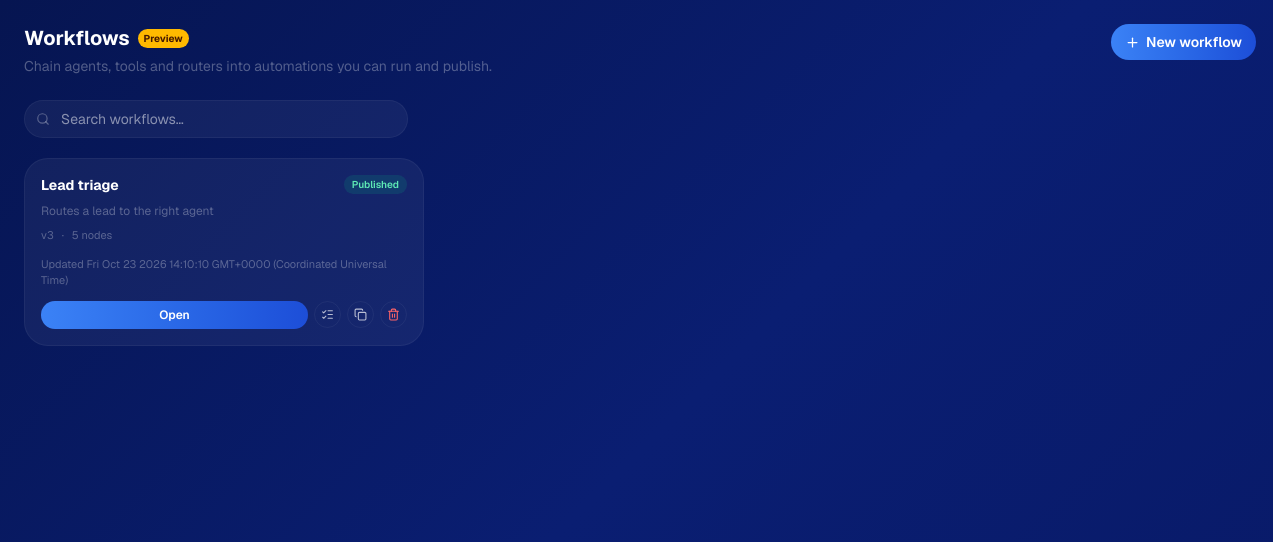
Scenario: WorkflowsPage › asks for confirmation before deleting a workflow
The width and height of the screenshot is (1273, 542).
Expected: the heading "Lead triage" is shown, top-left (41, 176), bottom-right (119, 194)
Click the button named "Delete". click: (394, 314)
box: top-left (380, 301), bottom-right (407, 328)
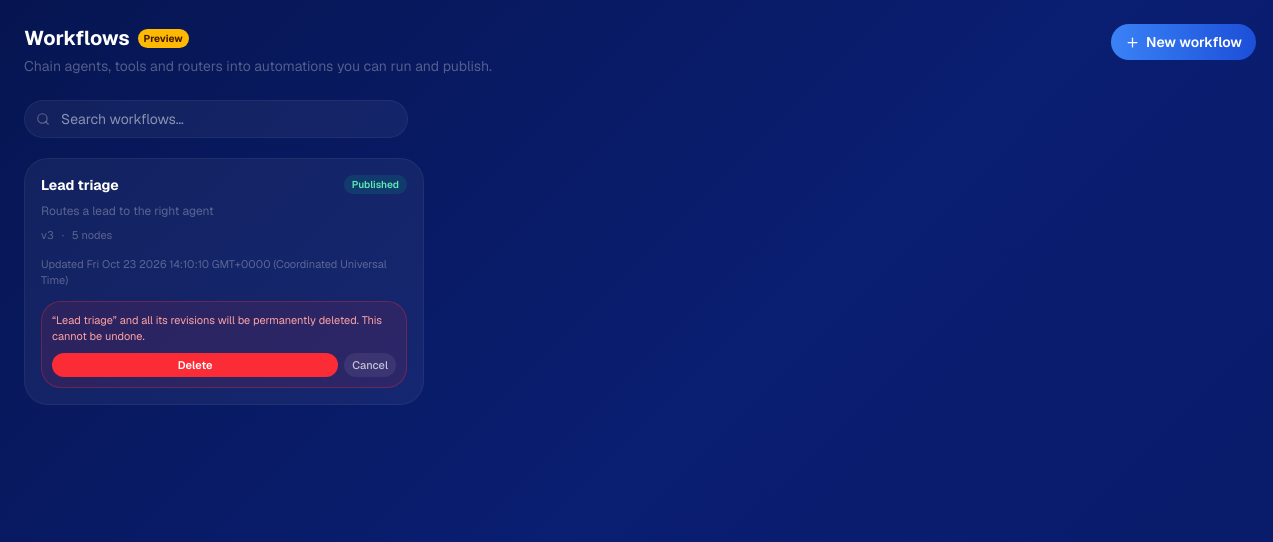
Now the text "permanently deleted" is shown, box top-left (52, 312), bottom-right (382, 343)
Click the button "Delete". click: (195, 365)
box: top-left (52, 352), bottom-right (338, 377)
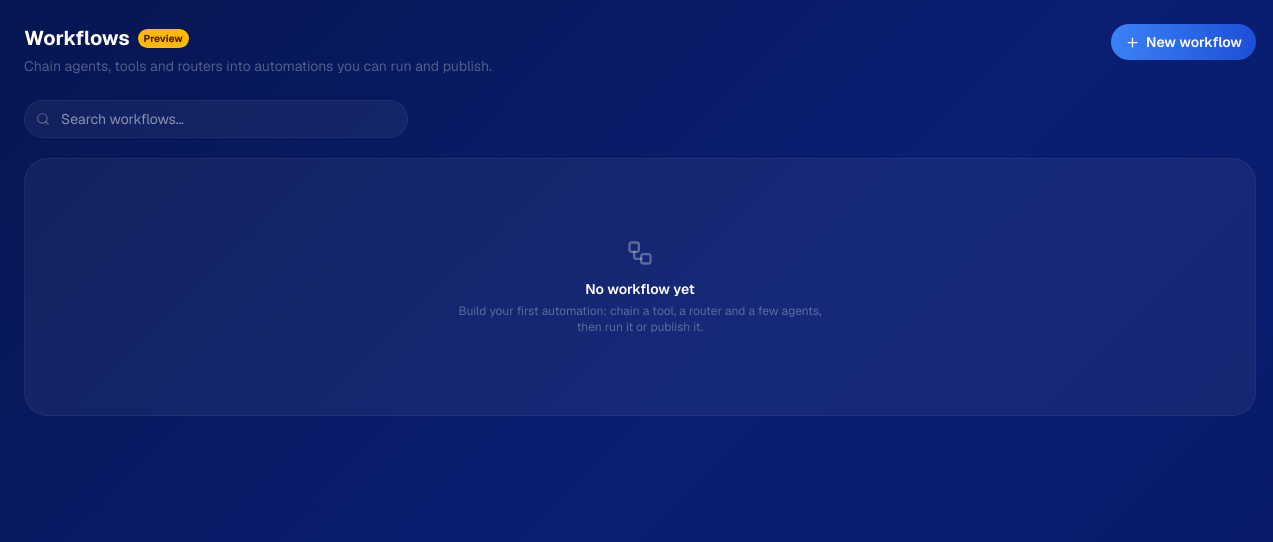
Now the link "Lead triage" is gone
